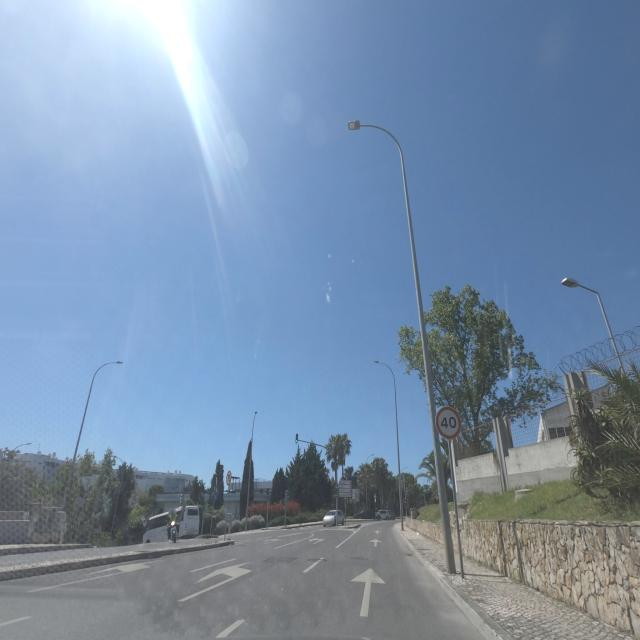car: (322, 509, 346, 527), (375, 508, 393, 520)
